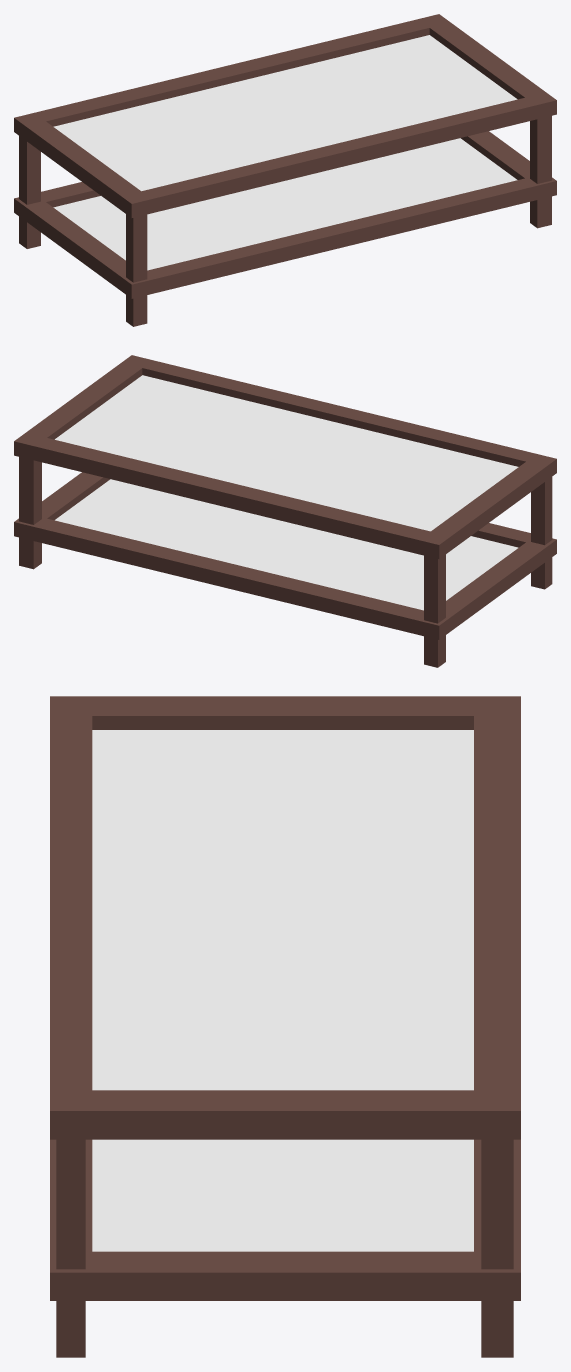
File: Lounge Table.glb
3 views of the same model, one above another, from view 1: azimuth 30°, elevation 25°; view 2: azimuth 150°, elevation 25°; view 3: azimuth 270°, elevation 25° (orthographic). The views are drawn at different scales.
Parts seen in each view (by area): view 1: Table; view 2: Table; view 3: Table.
Part boxes in pixels (x1,y1,x2,y2): Table: (14,14,556,326); Table: (14,355,556,667); Table: (50,696,520,1357).
Size of the model in its own units: 2 by 0.5617 by 0.96.
2 materials, 1 textured.
